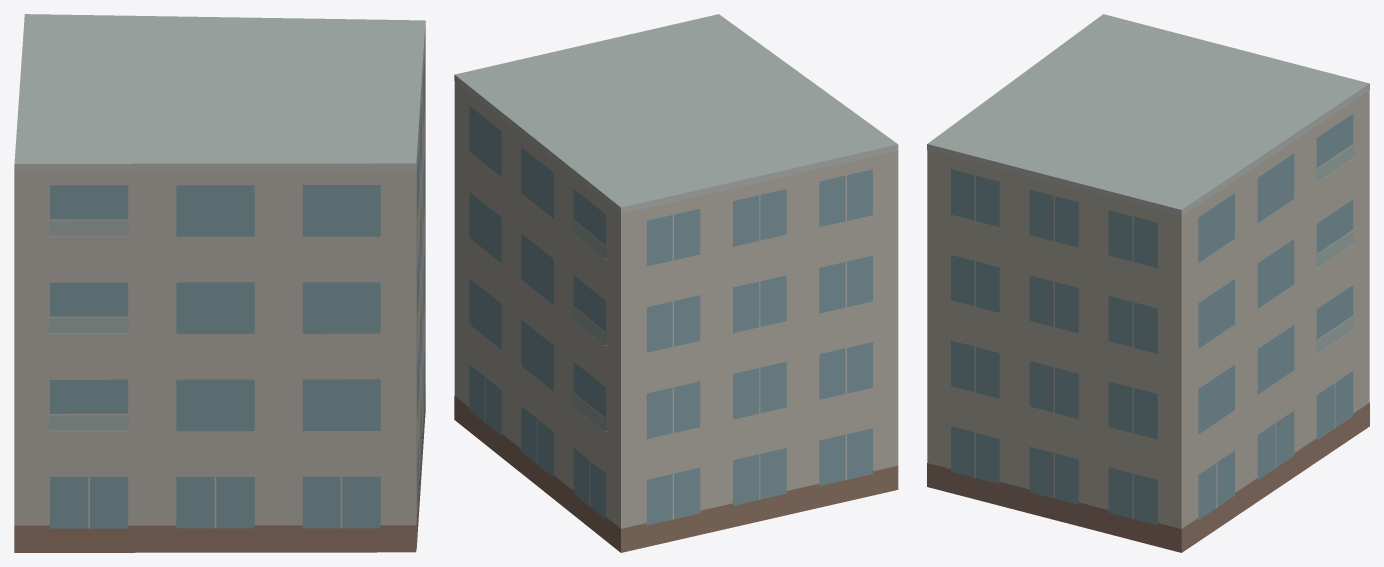
File: survey-upis-32732716.glb
3 renders of one model, left to right at view 1: azimuth 30°, elevation 25°; view 2: azimuth 150°, elevation 25°; view 3: azimuth 270°, elevation 25°, orthographic. The views are drawn at different scales.
Parts seen in each view (by area): view 1: survey-upis-32732716.tmp; view 2: survey-upis-32732716.tmp; view 3: survey-upis-32732716.tmp.
Part boxes in pixels (<box>): survey-upis-32732716.tmp: <box>14,14,425,552</box>; survey-upis-32732716.tmp: <box>454,14,898,552</box>; survey-upis-32732716.tmp: <box>927,14,1369,552</box>.
Bounding box in the file's own units: 15.88 × 12.95 × 15.16.
